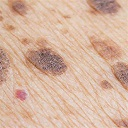Melanoma: (31, 48, 66, 74), (93, 1, 122, 16), (1, 49, 10, 83), (114, 63, 128, 83)
